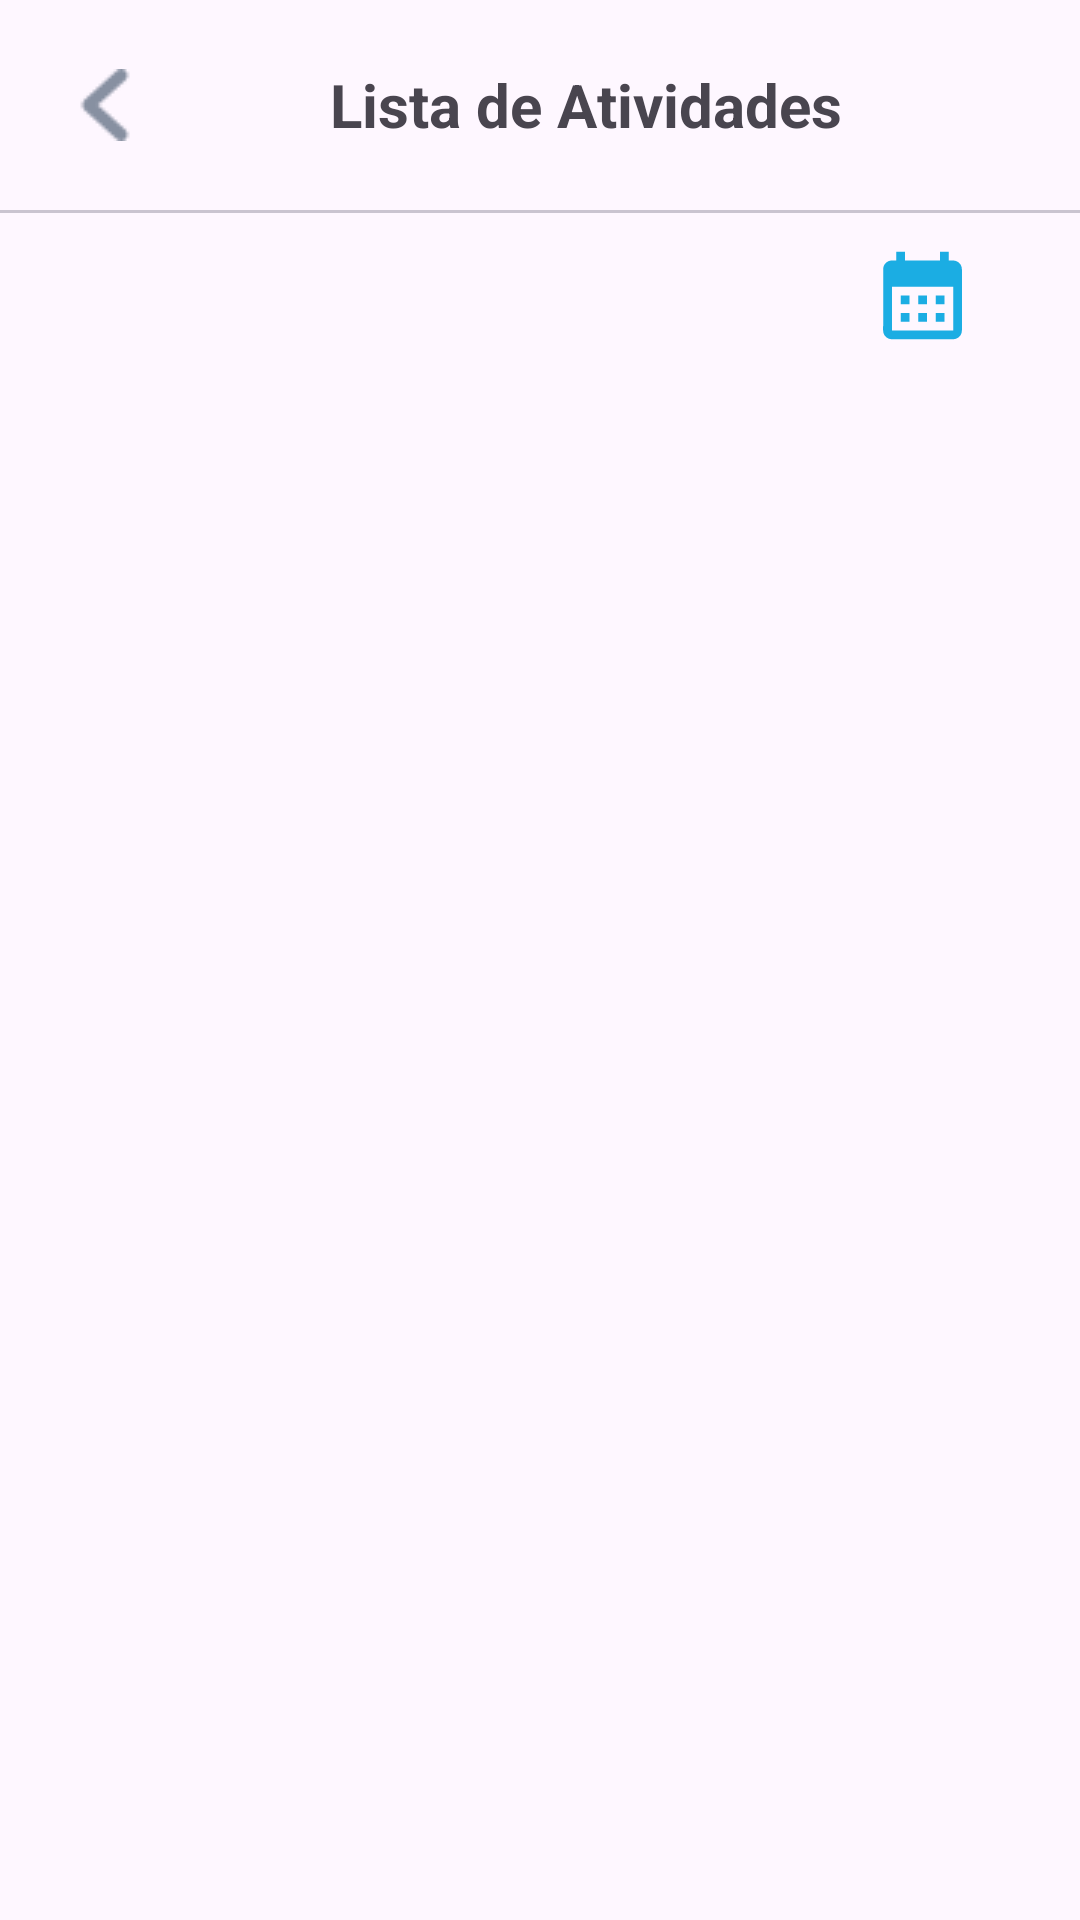

Screen size 1080*1920. Icon name, then its box in pixels as (x1, y1, x2, y2):
calendar: (883, 251, 962, 340)
leftarrow: (81, 69, 129, 141)
